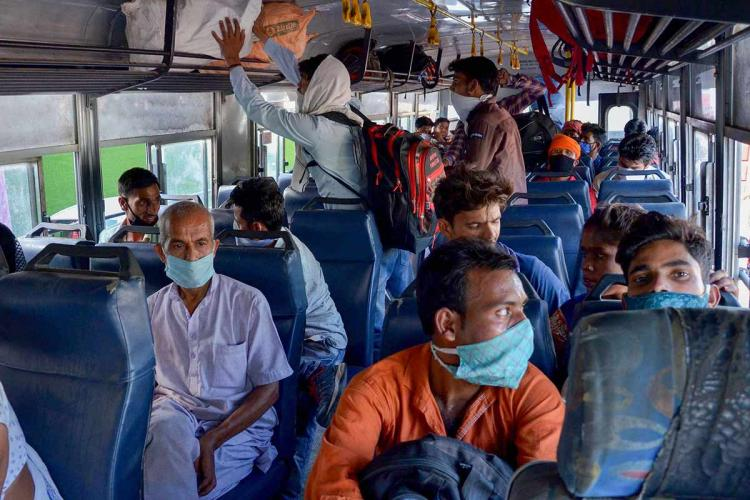with_incorrect_mask: (629, 252, 704, 308), (164, 222, 212, 288), (127, 190, 161, 229), (446, 70, 477, 112)
with_mask: (470, 278, 540, 391)
